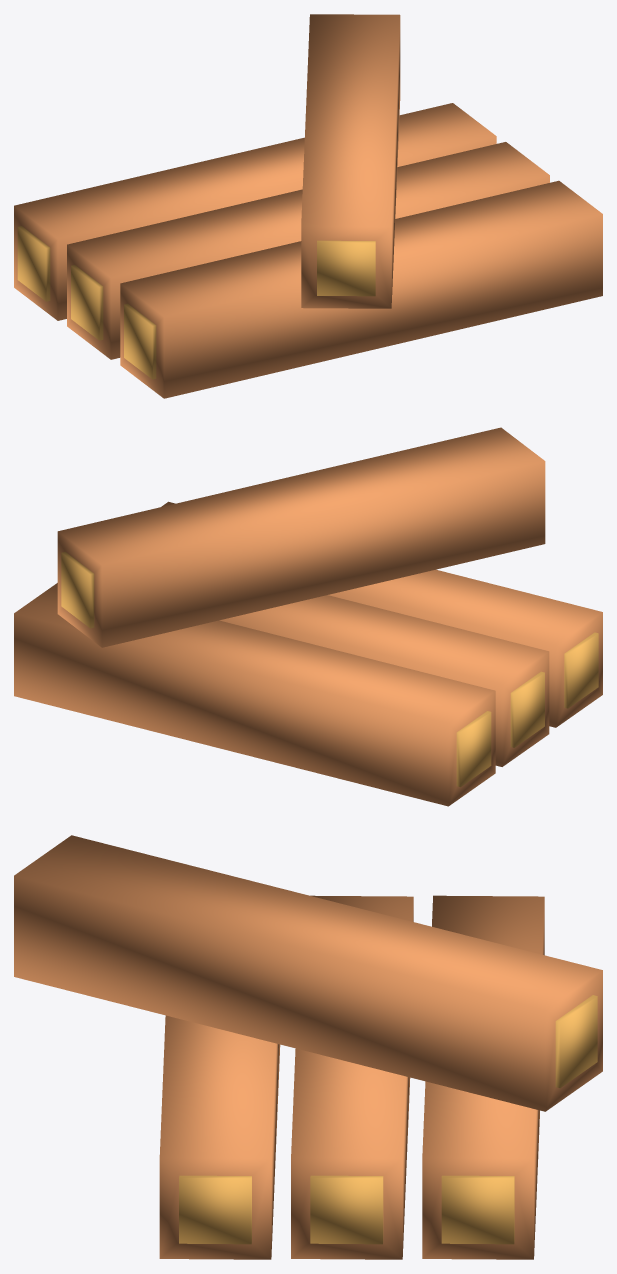
The model's file is Firewood.fbx.
3 views of the same model, one above another, from view 1: azimuth 30°, elevation 25°; view 2: azimuth 150°, elevation 25°; view 3: azimuth 270°, elevation 25° (orthographic). The views are drawn at different scales.
Parts seen in each view (by area): view 1: obj_0.005; view 2: obj_0.005; view 3: obj_0.005.
Boxes of the visible parts, left/top/right/bottom form: obj_0.005: left=14, top=14, right=602, bottom=398; obj_0.005: left=14, top=427, right=602, bottom=806; obj_0.005: left=14, top=835, right=602, bottom=1259.
Bounding box in the file's own units: 1445 × 555 × 1346.
